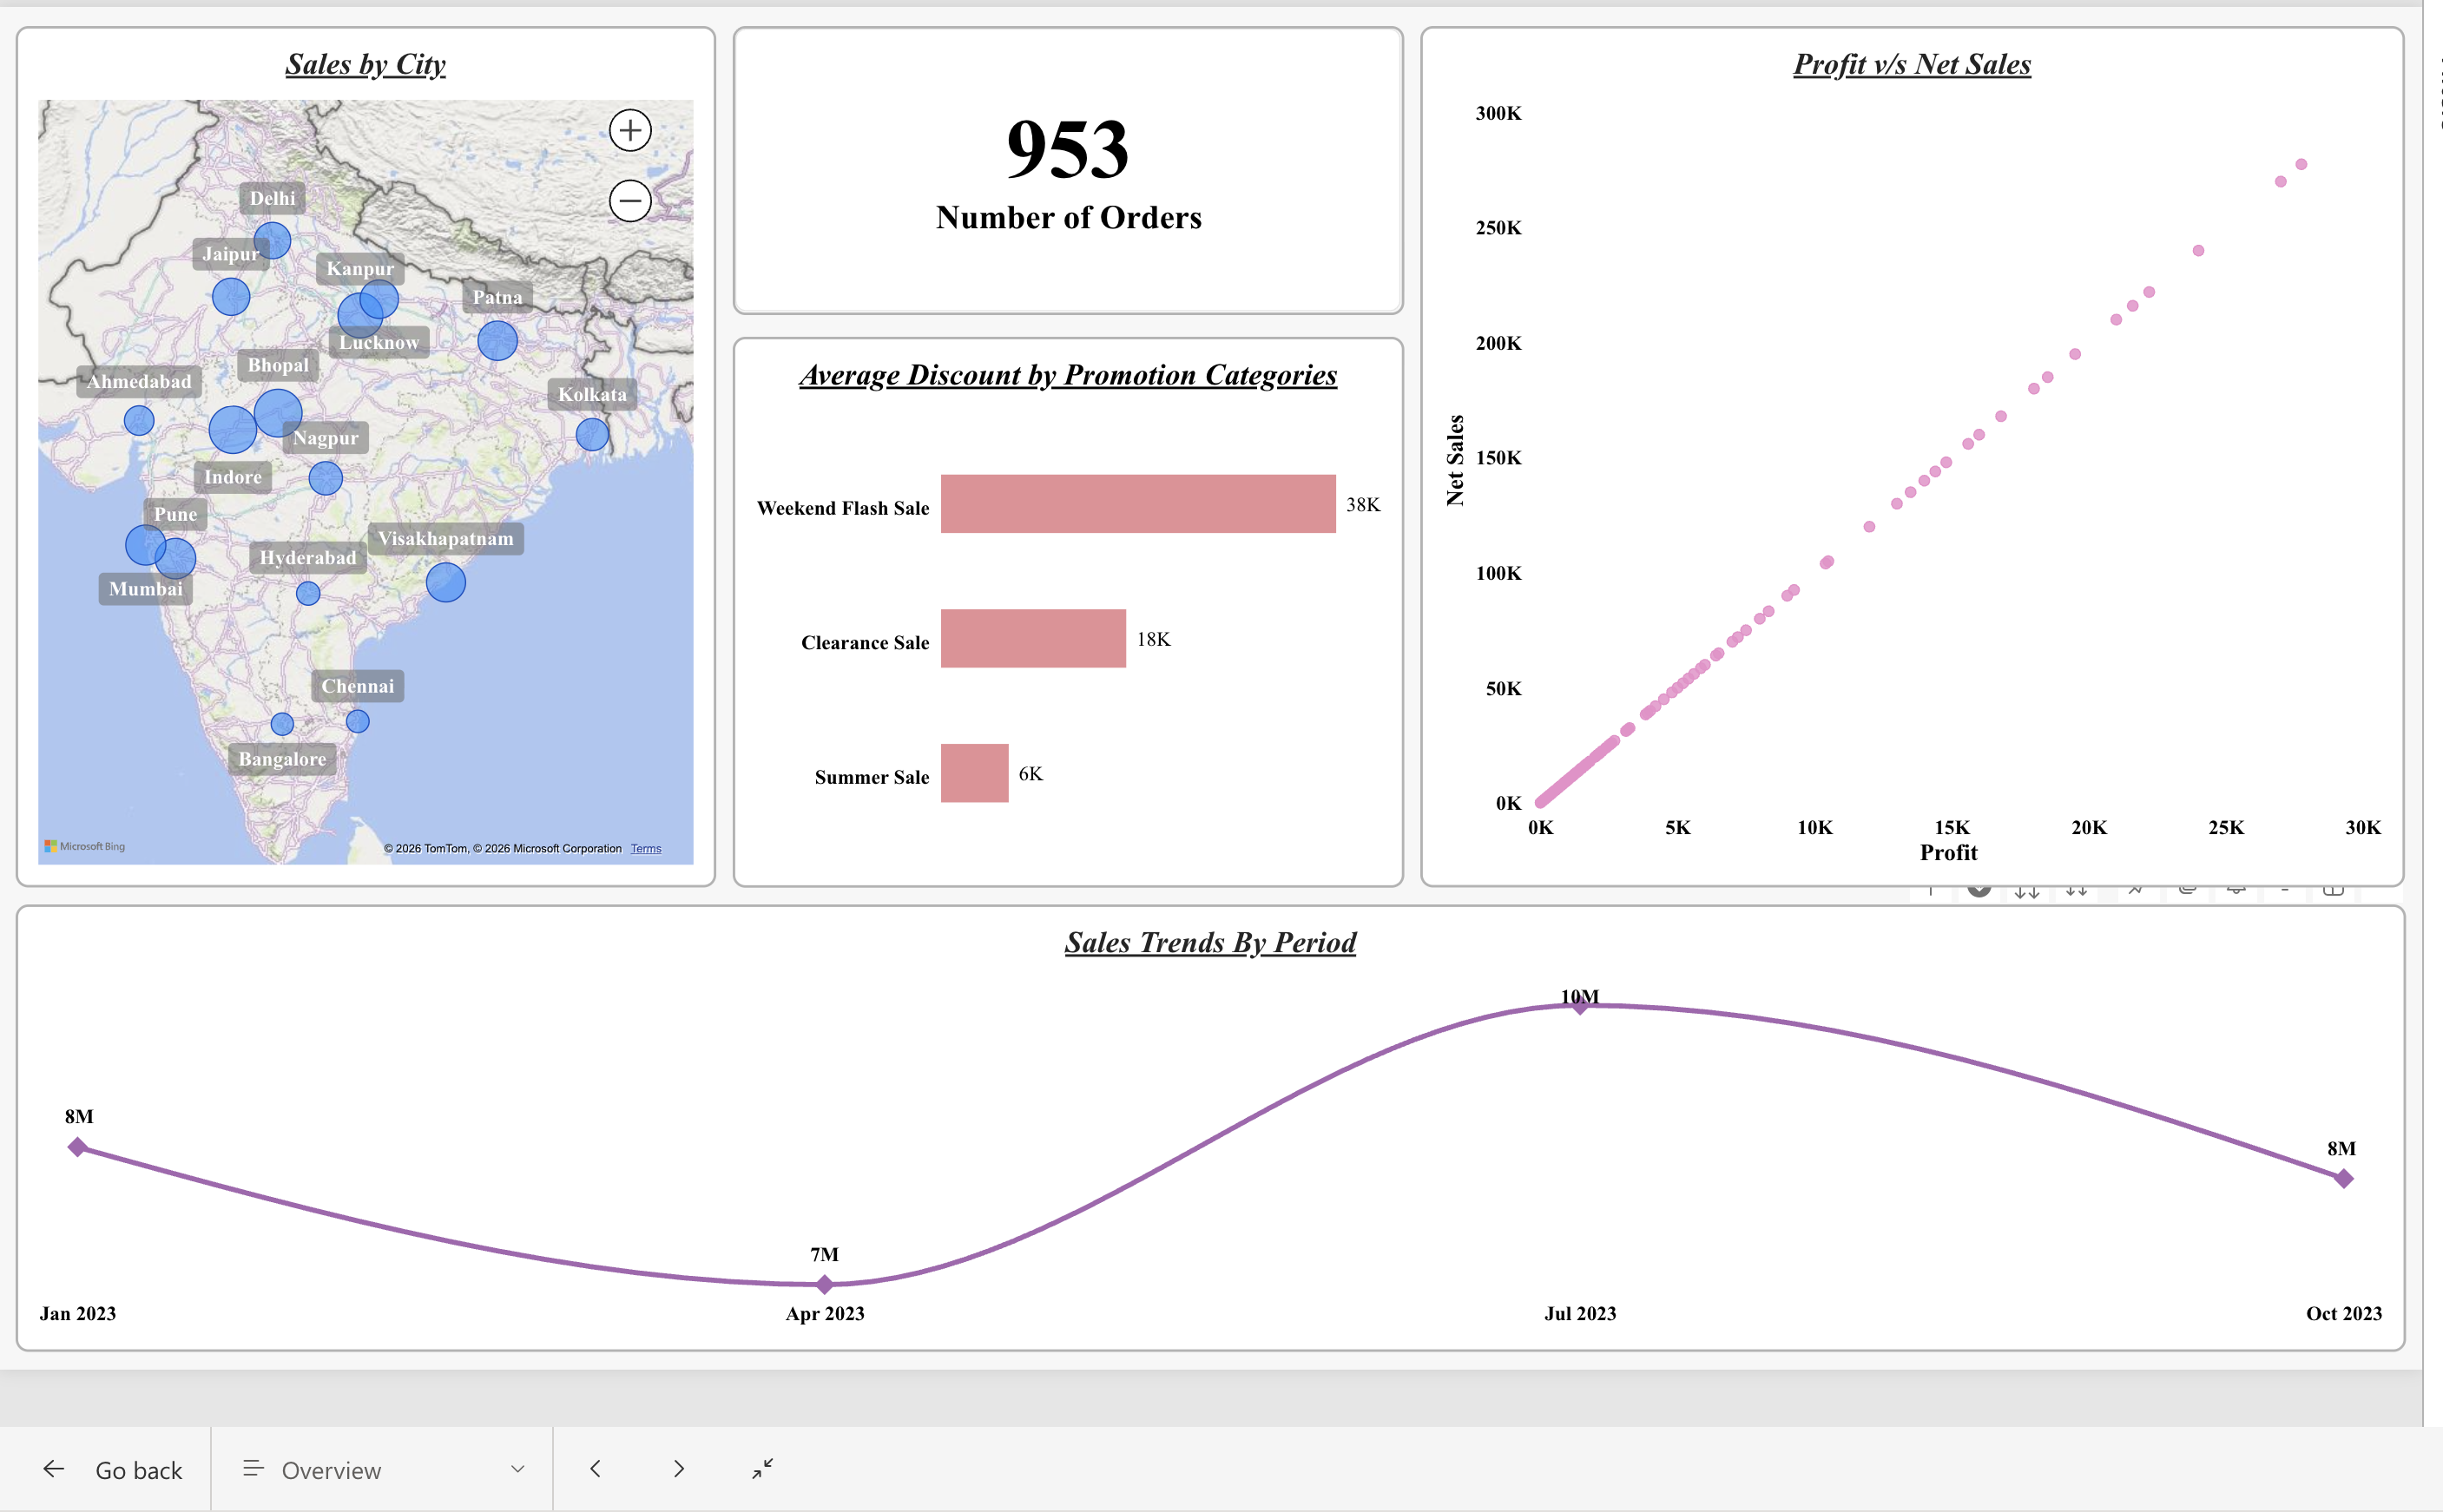

This screenshot's page, from the dashboard's own definition file:
{"tool":"powerbi","page":{"name":"Overview","canvas":[1920,1080],"ordinal":1},"visuals":[{"type":"lineChart","title":"Sales Trends By Period","fields":{"Category":["DateTable.Date.Variation.Date Hierarchy.Year","DateTable.Date.Variation.Date Hierarchy.Quarter","DateTable.Date.Variation.Date Hierarchy.Month","DateTable.Date.Variation.Date Hierarchy.Day"],"Y":["Sum(Fact Table.Net Sales)"]},"box":[13.3,711.2,1893.3,354.6],"z":0},{"type":"scatterChart","title":"Profit v/s Net Sales","fields":{"X":["Fact Table.Profit"],"Y":["Fact Table.Net Sales"]},"box":[1126.8,15.3,779.8,682.6],"z":1000},{"type":"barChart","title":"Average Discount by Promotion Categories","fields":{"Category":["Dim Promotion.Promotion Name"],"Y":["Avg(Fact Table.Discount Value)"]},"box":[581.5,261.2,532,436.6],"z":2000},{"type":"map","title":"Sales by City","fields":{"Category":["Dim Customers.City"],"Size":["Sum(Fact Table.Net Sales)"]},"box":[13.3,15.3,554.8,682.6],"z":3000},{"type":"cardVisual","fields":{"Data":["Count(Fact Table.Order ID)"]},"box":[581.5,15.3,532,228.8],"z":4000}]}

Visuals, with their boxes in screenshot pixels (x1, y1, x2, y2):
"Sales Trends By Period" lineChart: rect(16, 898, 2393, 1344)
"Profit v/s Net Sales" scatterChart: rect(1414, 25, 2393, 882)
"Average Discount by Promotion Categories" barChart: rect(729, 334, 1397, 882)
"Sales by City" map: rect(16, 25, 713, 882)
cardVisual - Count(Fact Table.Order ID): rect(729, 25, 1397, 312)
